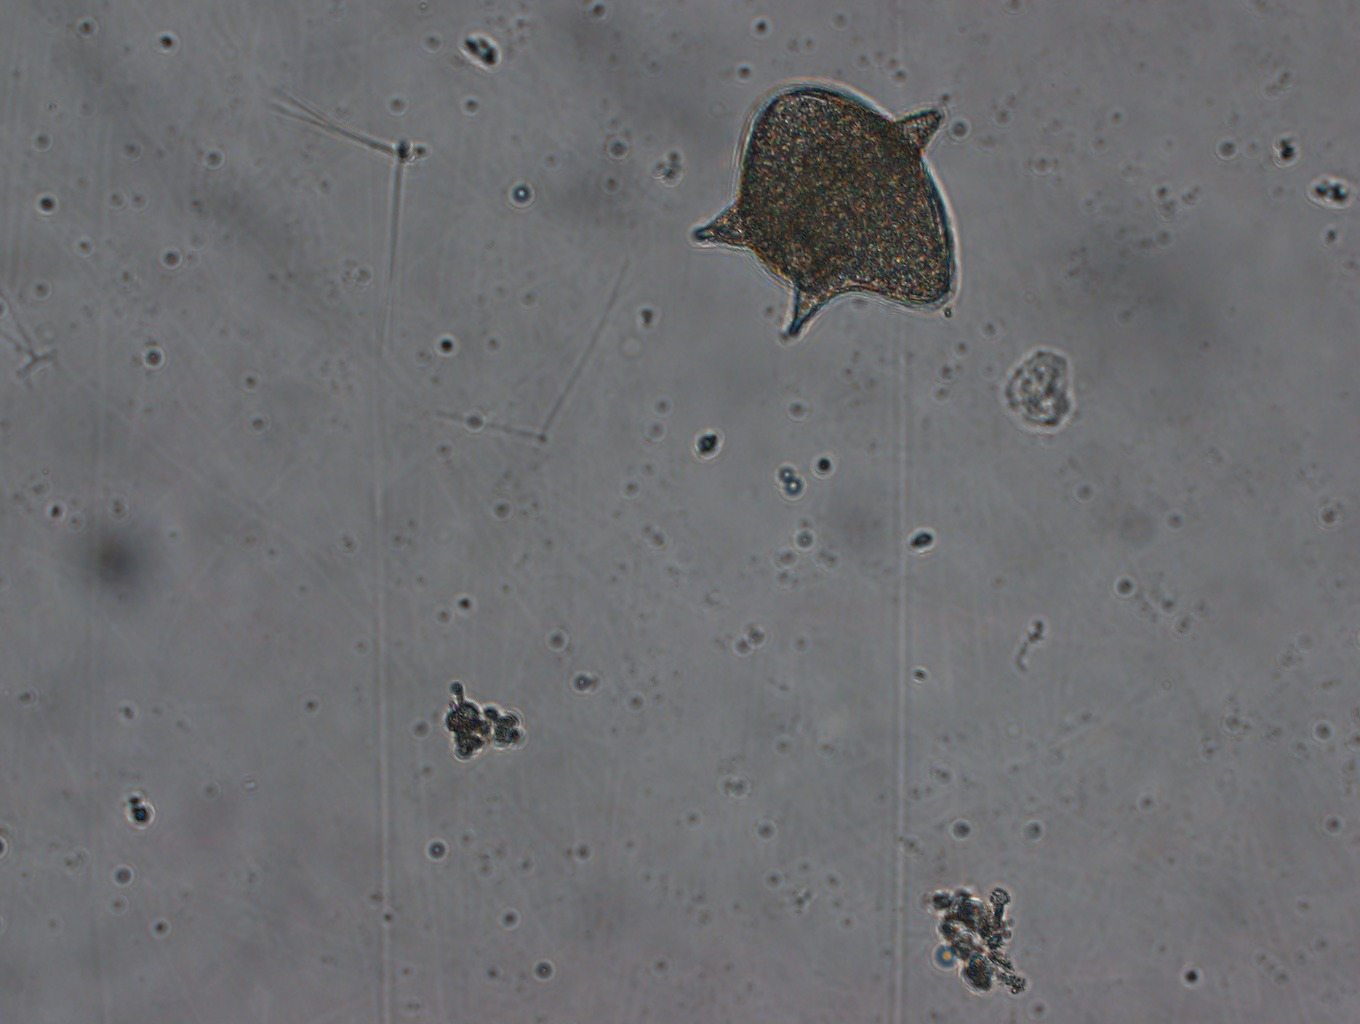protoperidinium: (689, 81, 964, 344)
